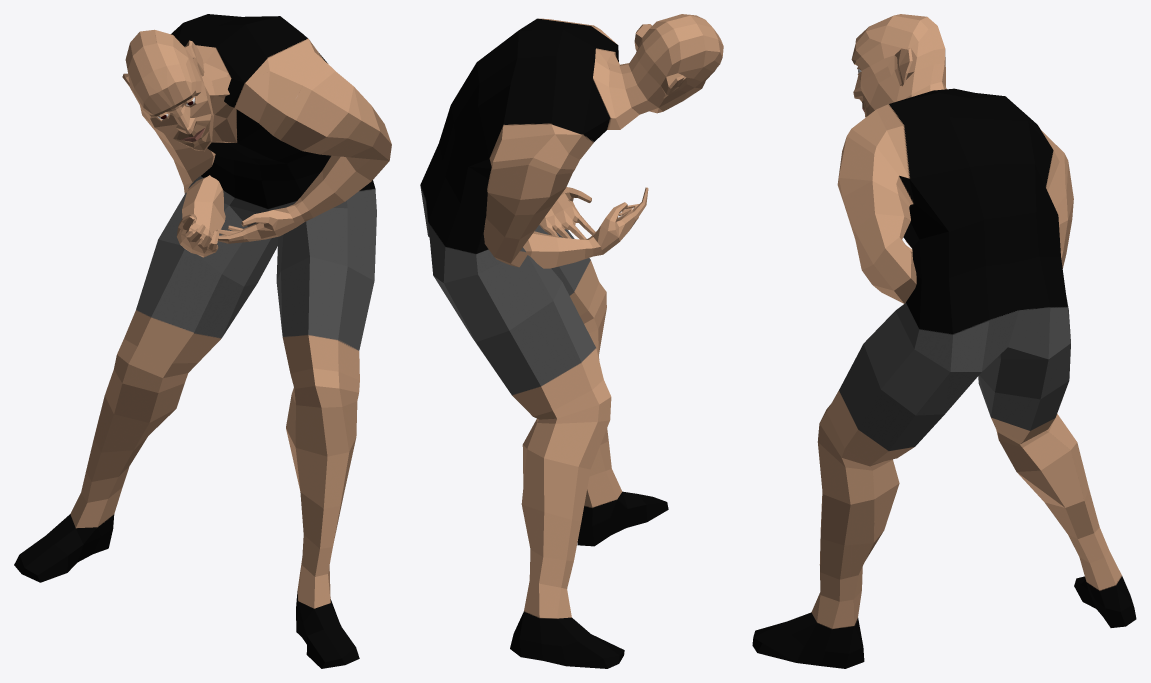
File: PlayerDead(19).obj
3 views of the same model, side by side, from view 1: azimuth 30°, elevation 25°; view 2: azimuth 150°, elevation 25°; view 3: azimuth 270°, elevation 25° (orthographic). The views are drawn at different scales.
Visible parts, largest first — view 1: Plane002; view 2: Plane002; view 3: Plane002.
Boxes of the visible parts, x1,y1,x2,y2 form: Plane002: (14, 14, 391, 668); Plane002: (420, 14, 723, 668); Plane002: (752, 14, 1136, 668).
Bounding box in the file's own units: 674 × 1433 × 851.
